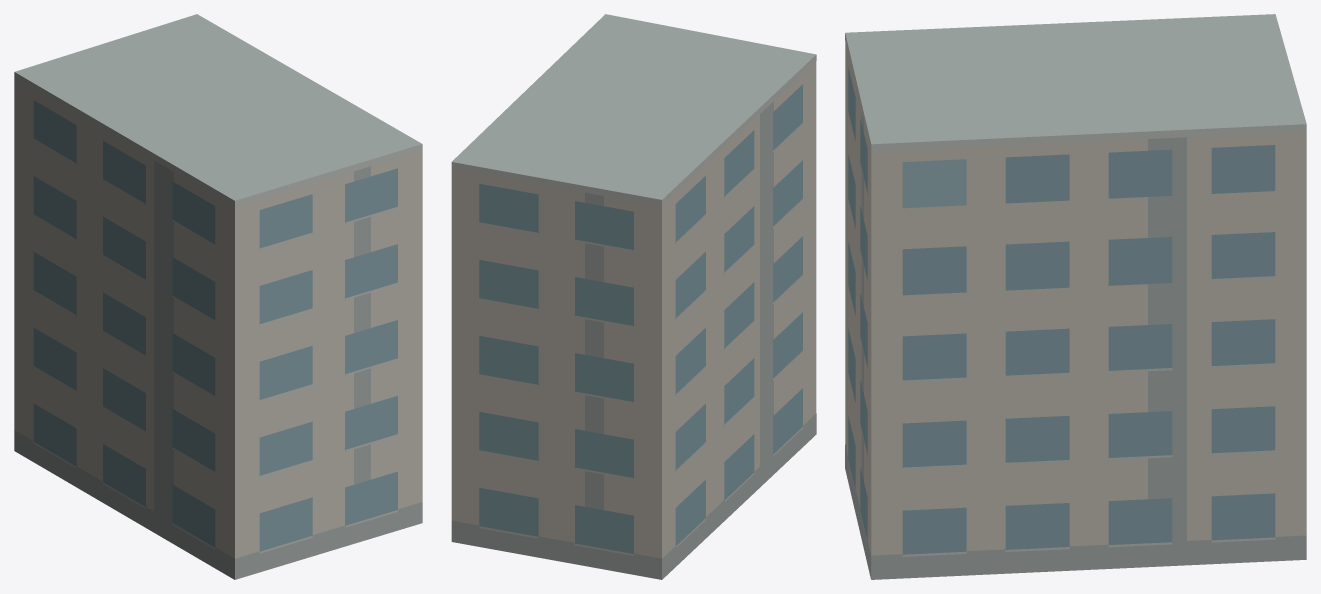
Rendered from survey-upis-32843824.glb.
3 views of the same model, side by side, from view 1: azimuth 30°, elevation 25°; view 2: azimuth 150°, elevation 25°; view 3: azimuth 270°, elevation 25° (orthographic). The views are drawn at different scales.
Visible parts, largest first — view 1: survey-upis-32843824.tmp; view 2: survey-upis-32843824.tmp; view 3: survey-upis-32843824.tmp.
Part boxes in pixels (x1,y1,x2,y2): survey-upis-32843824.tmp: (14,14,422,579); survey-upis-32843824.tmp: (451,14,816,579); survey-upis-32843824.tmp: (845,14,1306,579).
Size of the model in its own units: 9.02 by 14.05 by 13.5.
